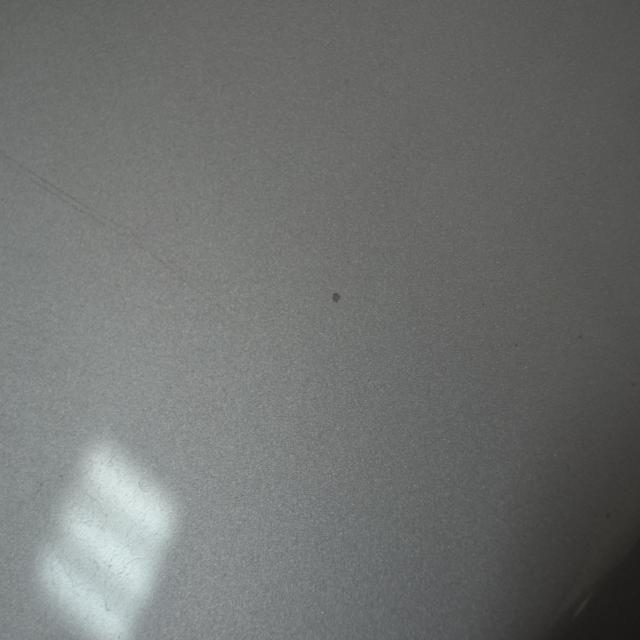dirt: (331, 288, 341, 306)
